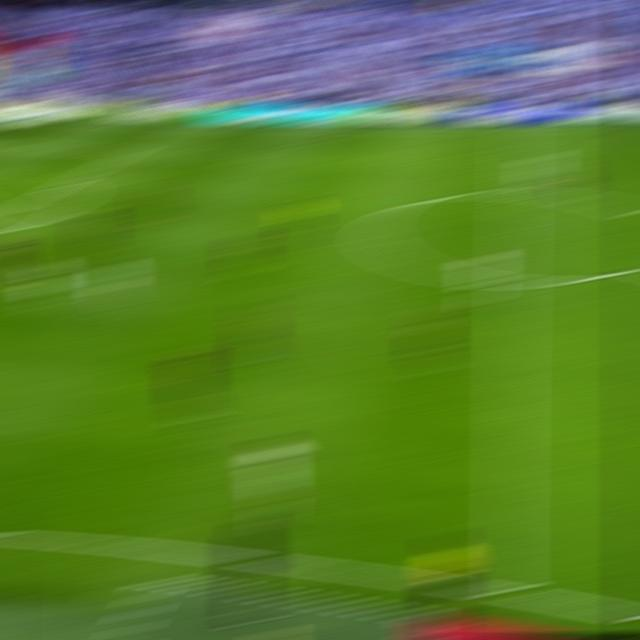halfcircle_bottom: (495, 270, 528, 291)
halfcircle_top: (499, 184, 529, 201)
midline_bottom_intersection: (490, 574, 527, 602)
midline_top_intersection: (502, 124, 529, 132)
top_arc_area_intersection: (51, 177, 78, 189)
